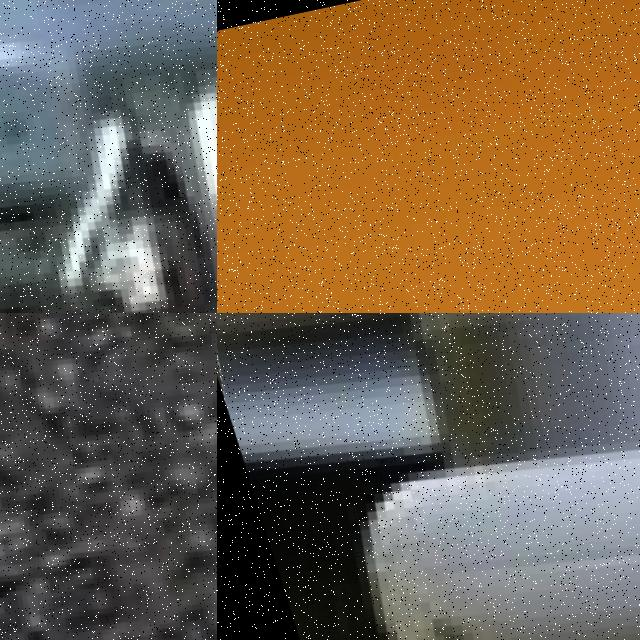drone: (217, 313, 640, 640), (0, 313, 217, 640), (0, 0, 217, 313)
